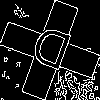D: (25, 25, 74, 80)
